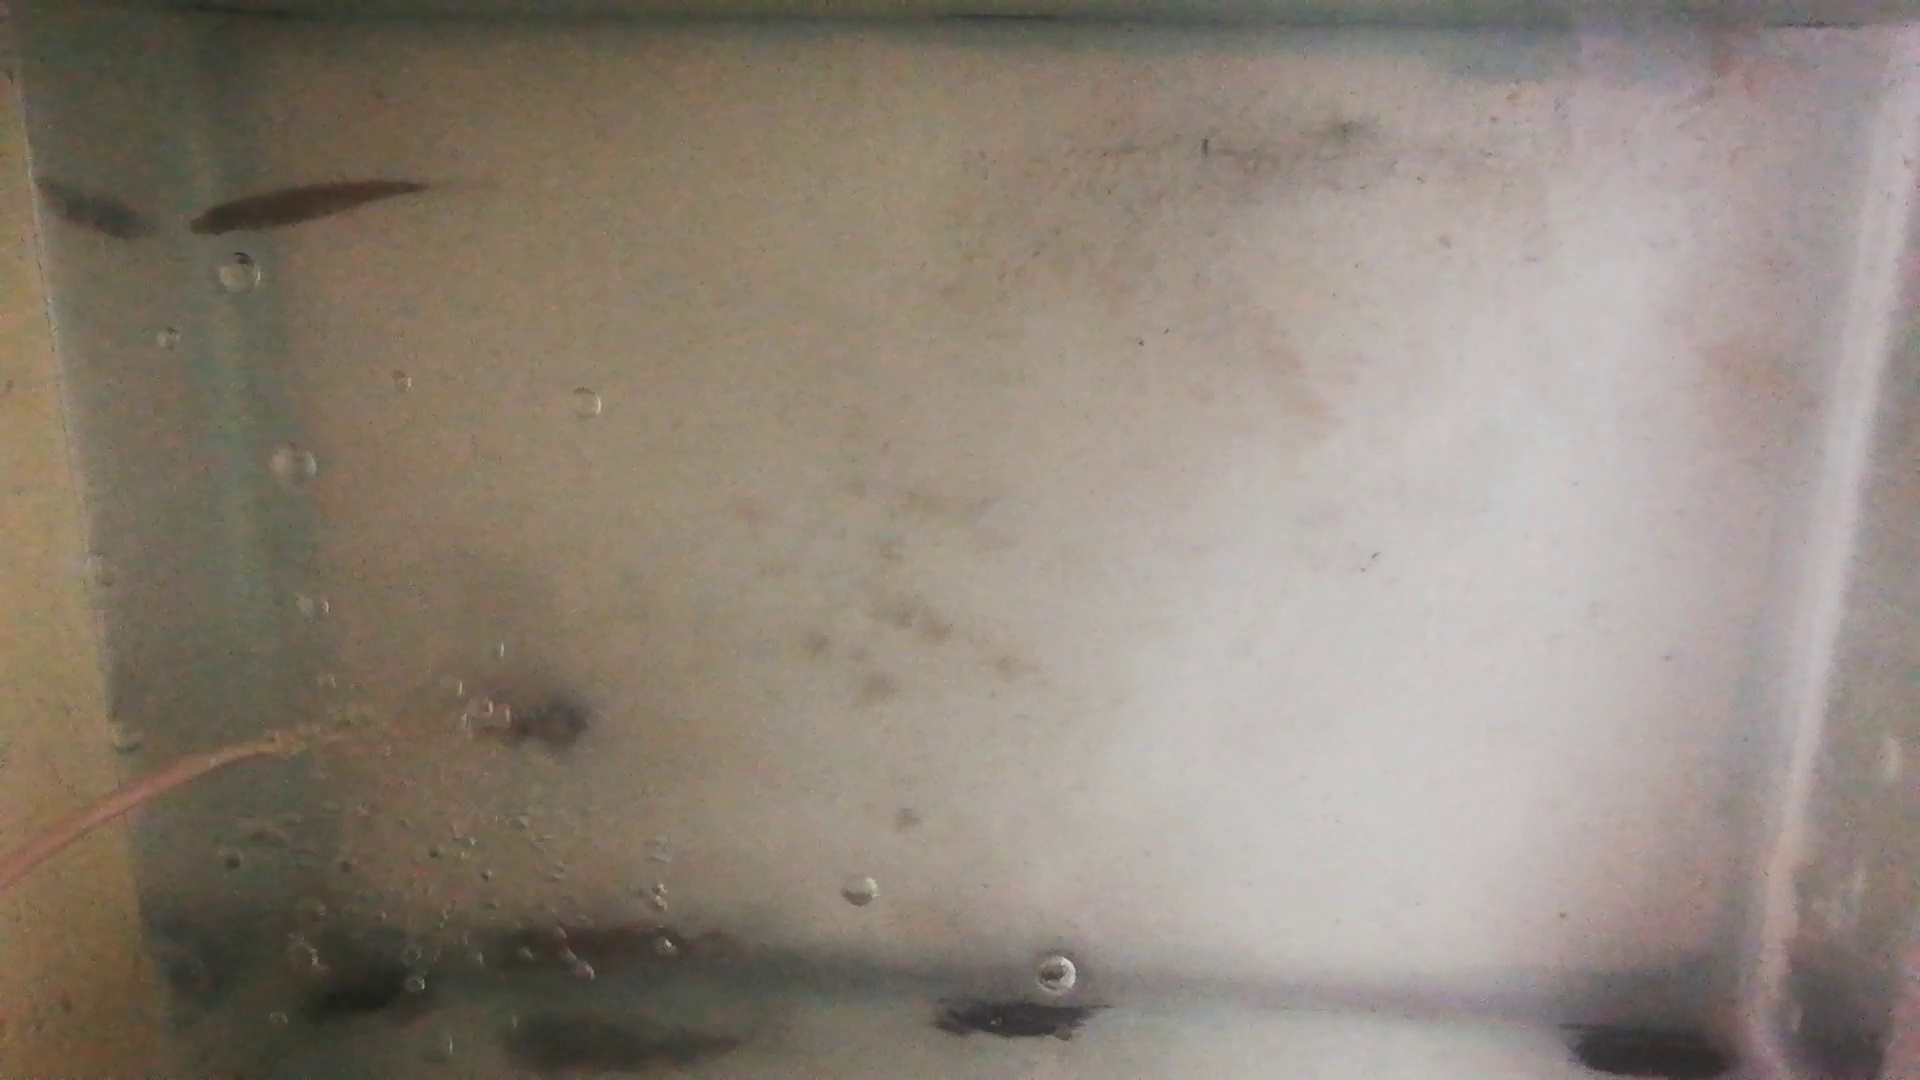fish: (185, 177, 422, 235), (487, 928, 683, 976)
